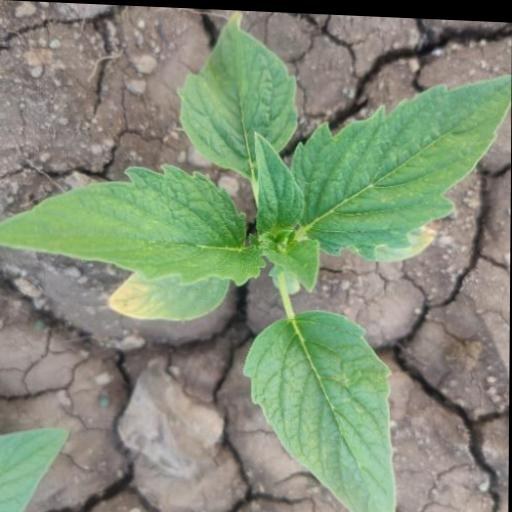crop: (0, 9, 512, 512)
